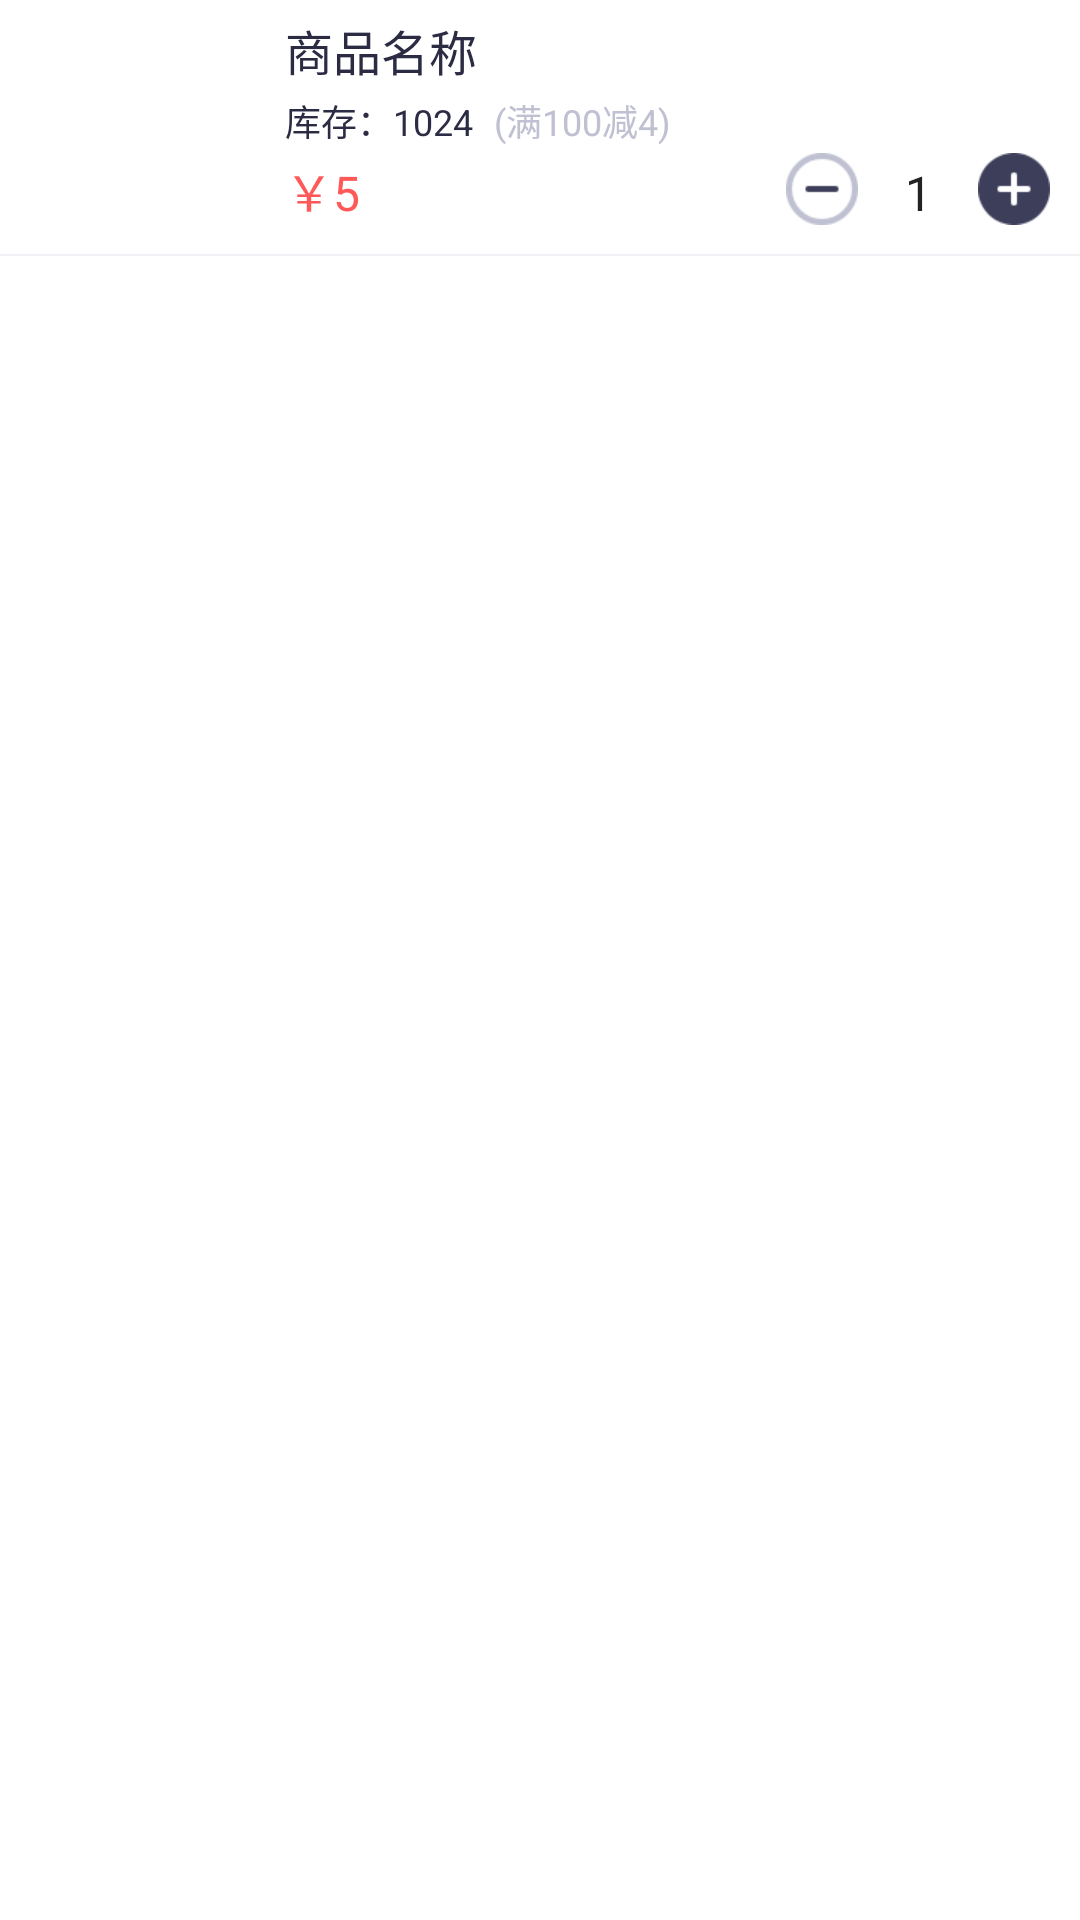

Screen size 1080 x 1920. Icon name, then its box in pixels as {"x1": x1, "y1": y1, "x2": x2, "y2": y2}:
add: {"x1": 978, "y1": 153, "x2": 1050, "y2": 225}
reduce: {"x1": 786, "y1": 153, "x2": 858, "y2": 225}
